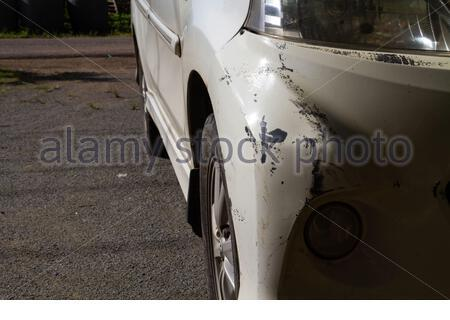front-bumper-dent: (193, 28, 449, 288)
